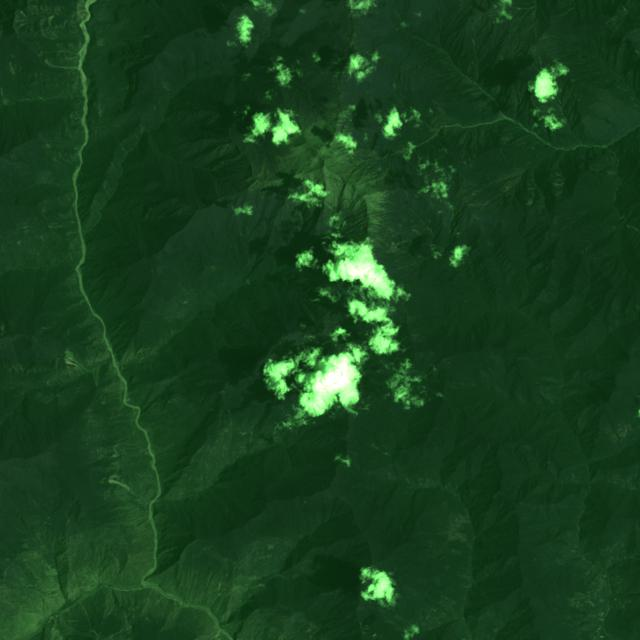landslides: (65, 350, 87, 374), (108, 479, 137, 496), (45, 59, 78, 71), (198, 406, 218, 421), (155, 443, 175, 456), (0, 88, 10, 106), (105, 180, 113, 195), (9, 61, 16, 77), (211, 629, 221, 640), (161, 81, 171, 91)
